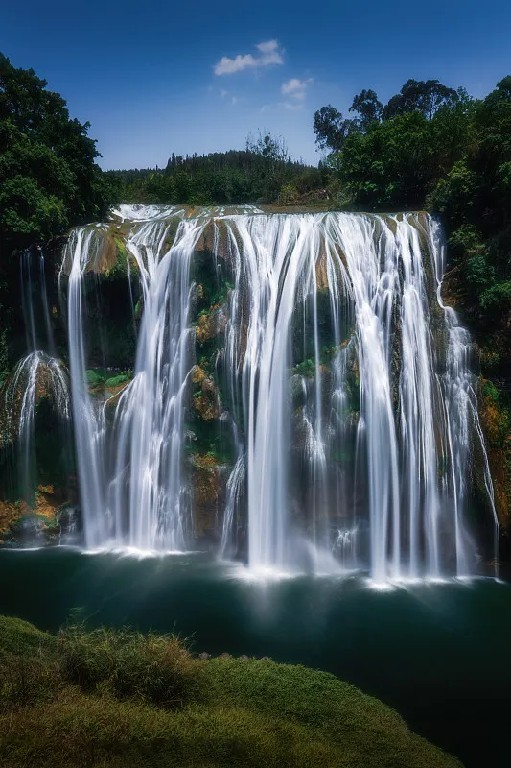Huangguoshu: (19, 204, 498, 580)
